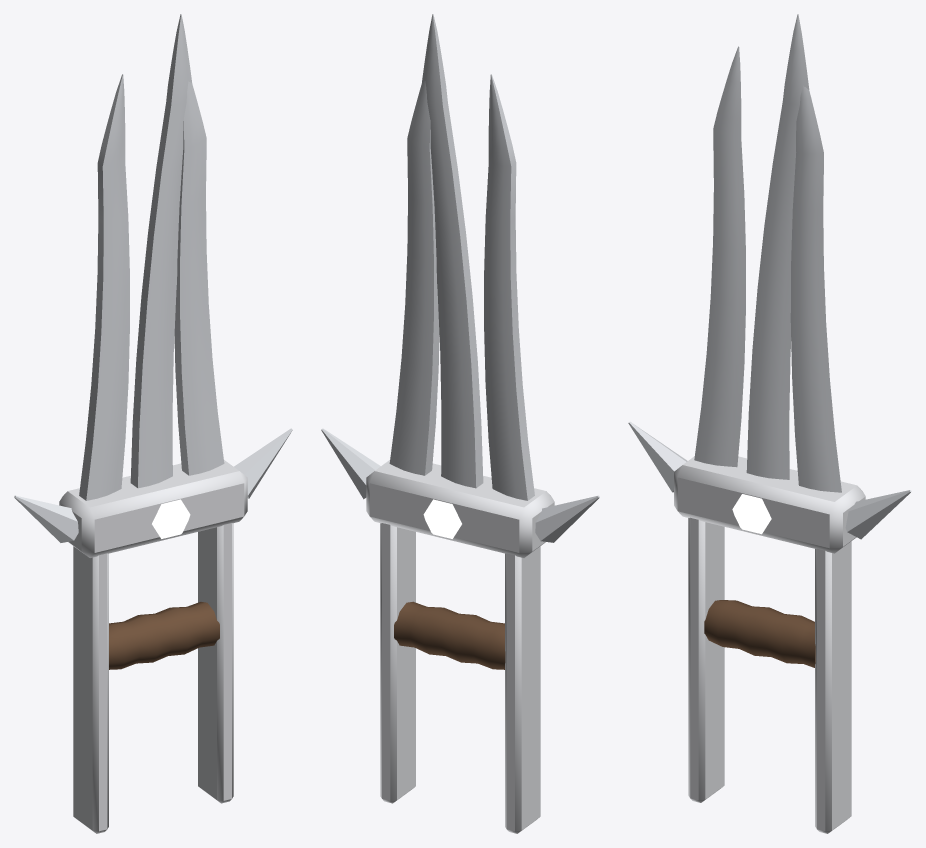
File: tempest_rakes.glb
3 renders of one model, left to right at view 1: azimuth 30°, elevation 25°; view 2: azimuth 150°, elevation 25°; view 3: azimuth 330°, elevation 25°, orthographic.
Parts seen in each view (by area): view 1: tempest_rakes; view 2: tempest_rakes; view 3: tempest_rakes.
Part boxes in pixels (<box>): tempest_rakes: <box>14,14,292,833</box>; tempest_rakes: <box>321,14,599,833</box>; tempest_rakes: <box>628,14,911,833</box>.
Bounding box in the file's own units: 0.2009 × 0.545 × 0.0616.
